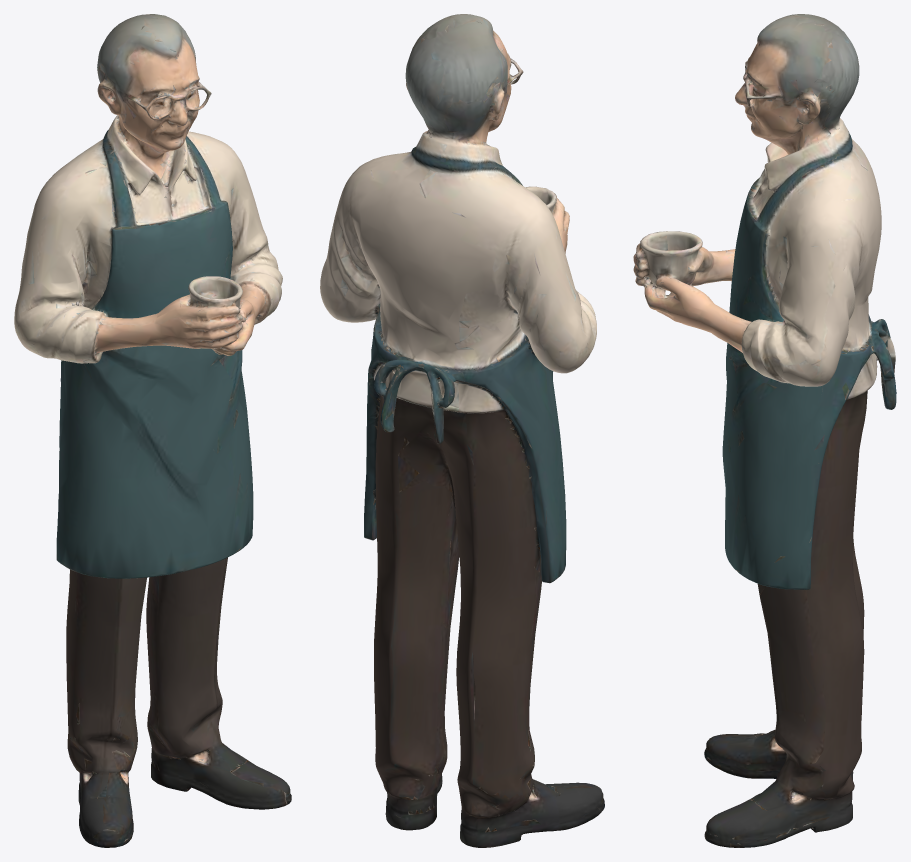
Rendered from npc_chen.glb.
The picture shows the model from 3 angles, left to right: view 1: azimuth 30°, elevation 25°; view 2: azimuth 150°, elevation 25°; view 3: azimuth 270°, elevation 25°; orthographic projection. The views are drawn at different scales.
Parts seen in each view (by area): view 1: Mesh_0; view 2: Mesh_0; view 3: Mesh_0.
Part boxes in pixels (bbox=[...]): Mesh_0: bbox=[14, 14, 291, 847]; Mesh_0: bbox=[320, 14, 604, 847]; Mesh_0: bbox=[633, 14, 896, 847].
Bounding box in the file's own units: 0.6581 × 1.91 × 0.5825.
1 material, 1 textured.
